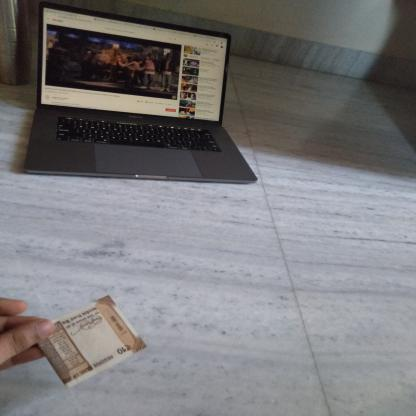New10Back: (34, 296, 148, 386)
